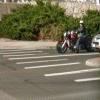Crosswalk: (5, 42, 100, 100)
